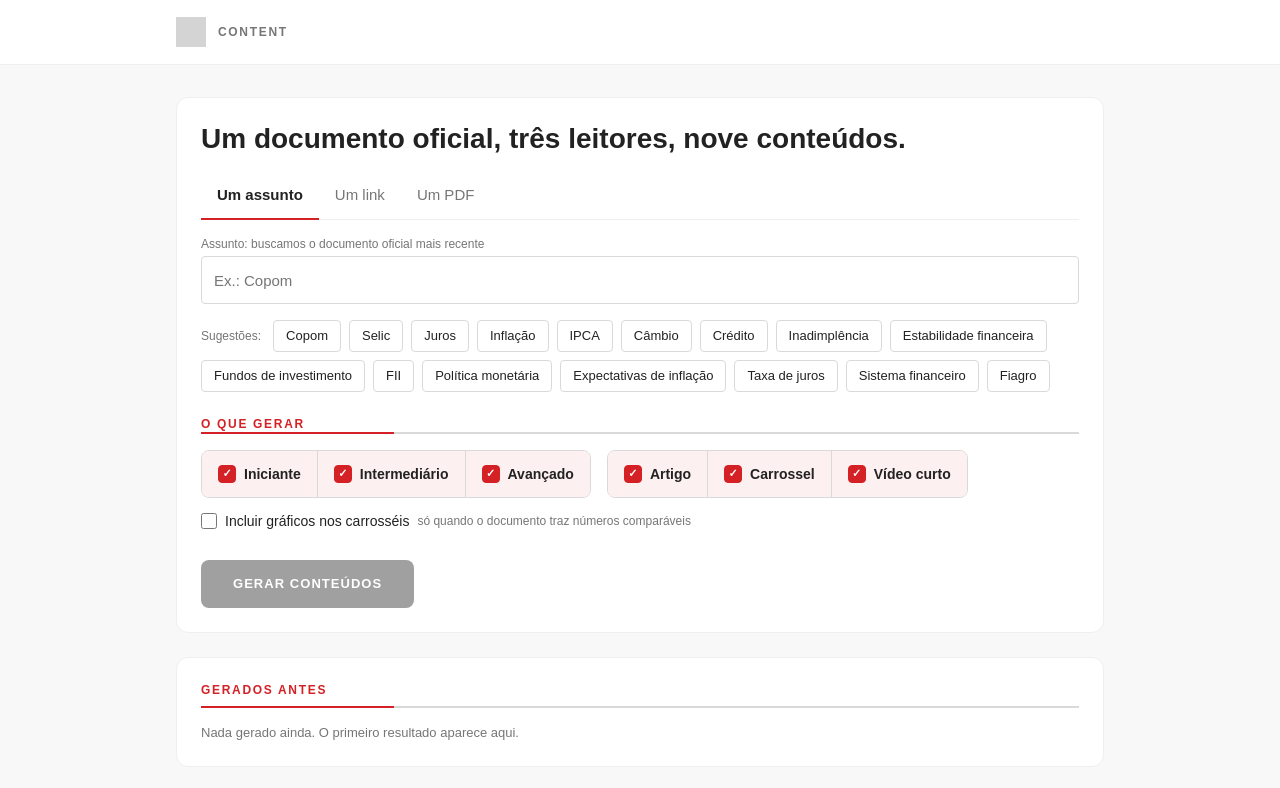
Test: App › mostra o erro do servidor e volta para o formulário
This screenshot has width=1280, height=788.
Step 1. Type "banana" into the field labelled "Assunto: buscamos o documento oficial mais recente" → (640, 280), box [201, 256, 1079, 304]
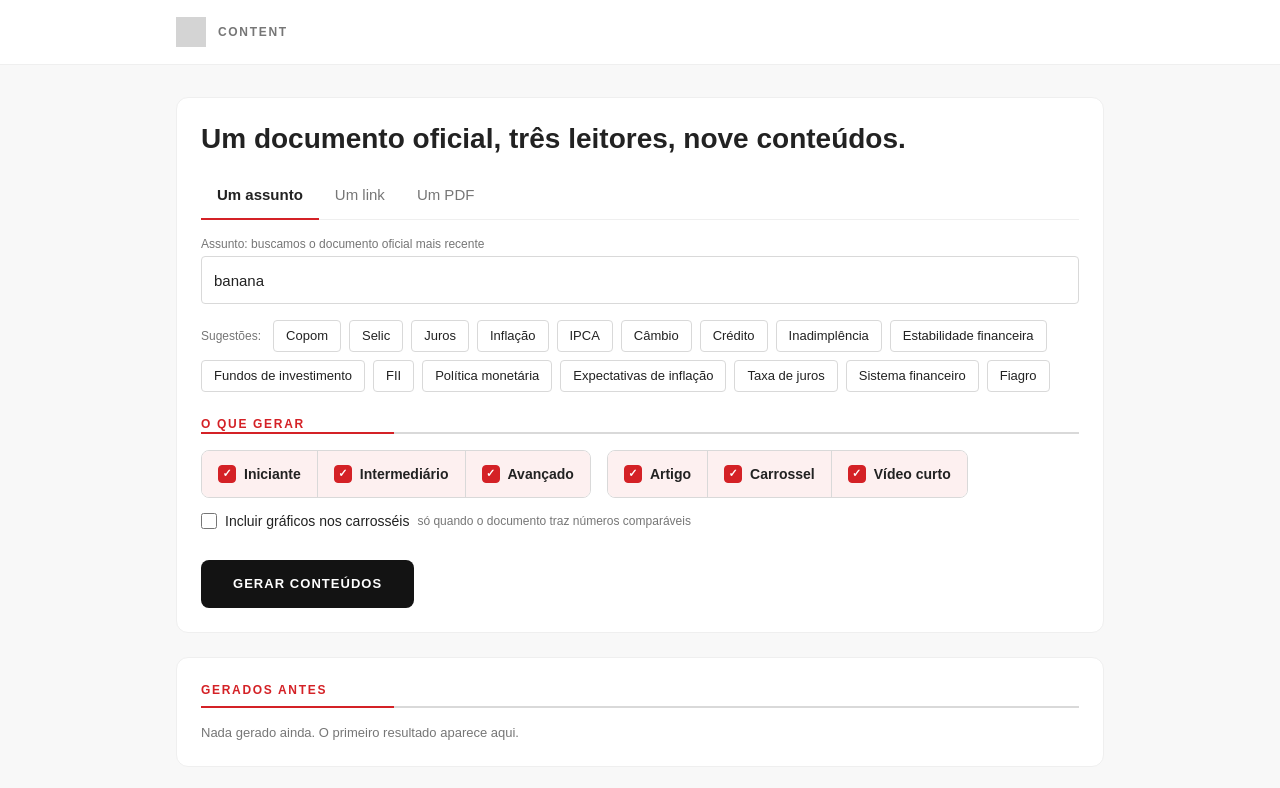
Step 2. Click the button "Gerar conteúdos" → (308, 584), box [201, 560, 414, 608]
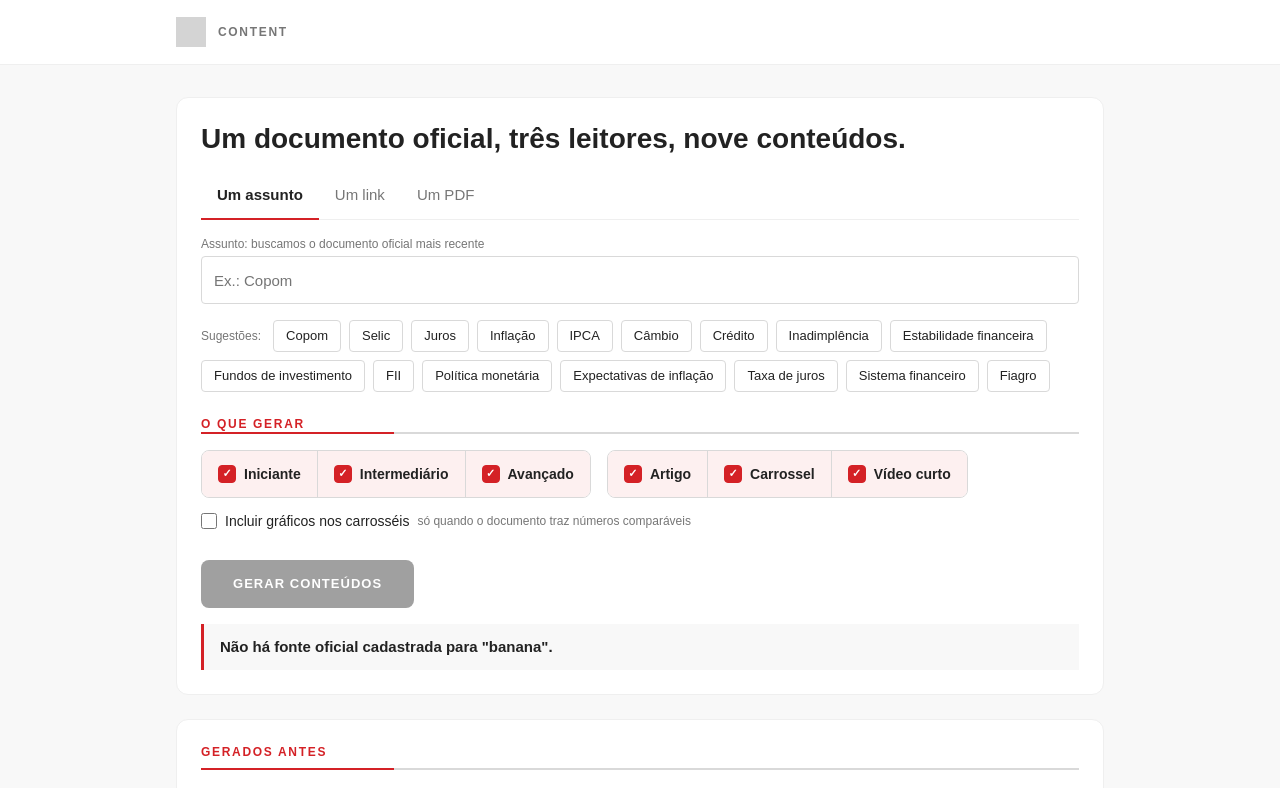
Check: the heading "Um documento oficial, três leitores, nove conteúdos." is shown, box [201, 123, 906, 154]
Check: the message shows "Não há fonte oficial", box [220, 638, 553, 655]
